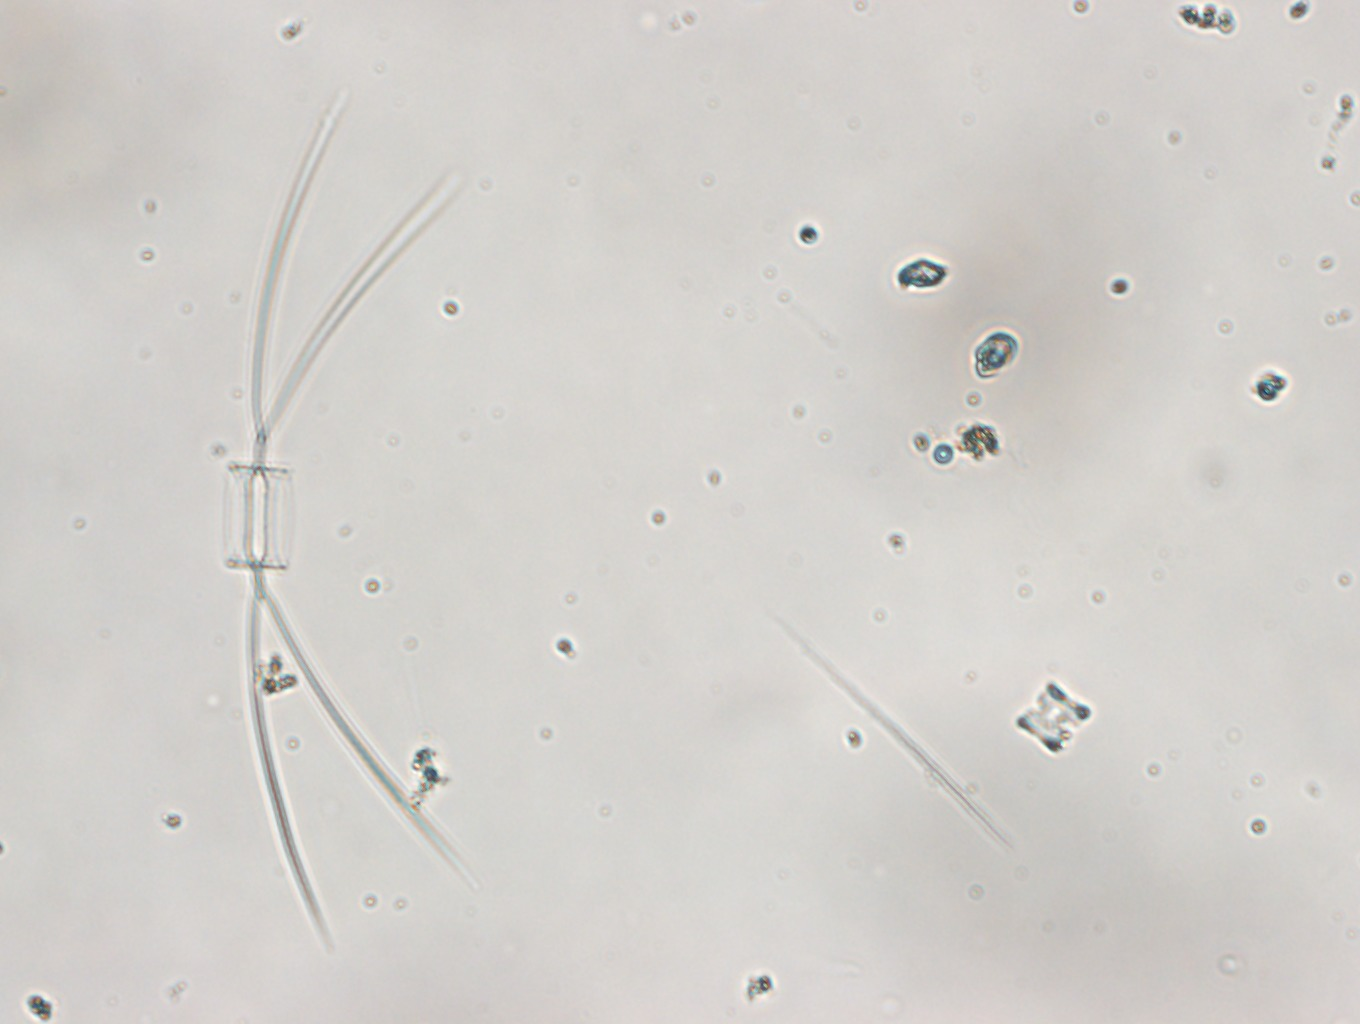chaetoceros: (212, 79, 500, 963)
